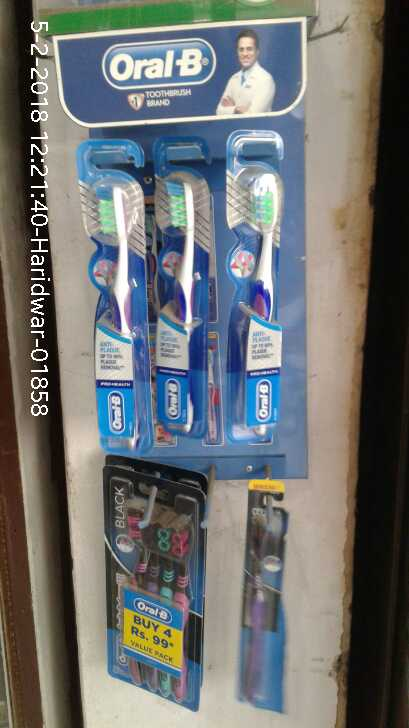oralb: (108, 458, 203, 714), (75, 137, 152, 451), (153, 143, 218, 440), (226, 125, 282, 442), (245, 483, 286, 715)
